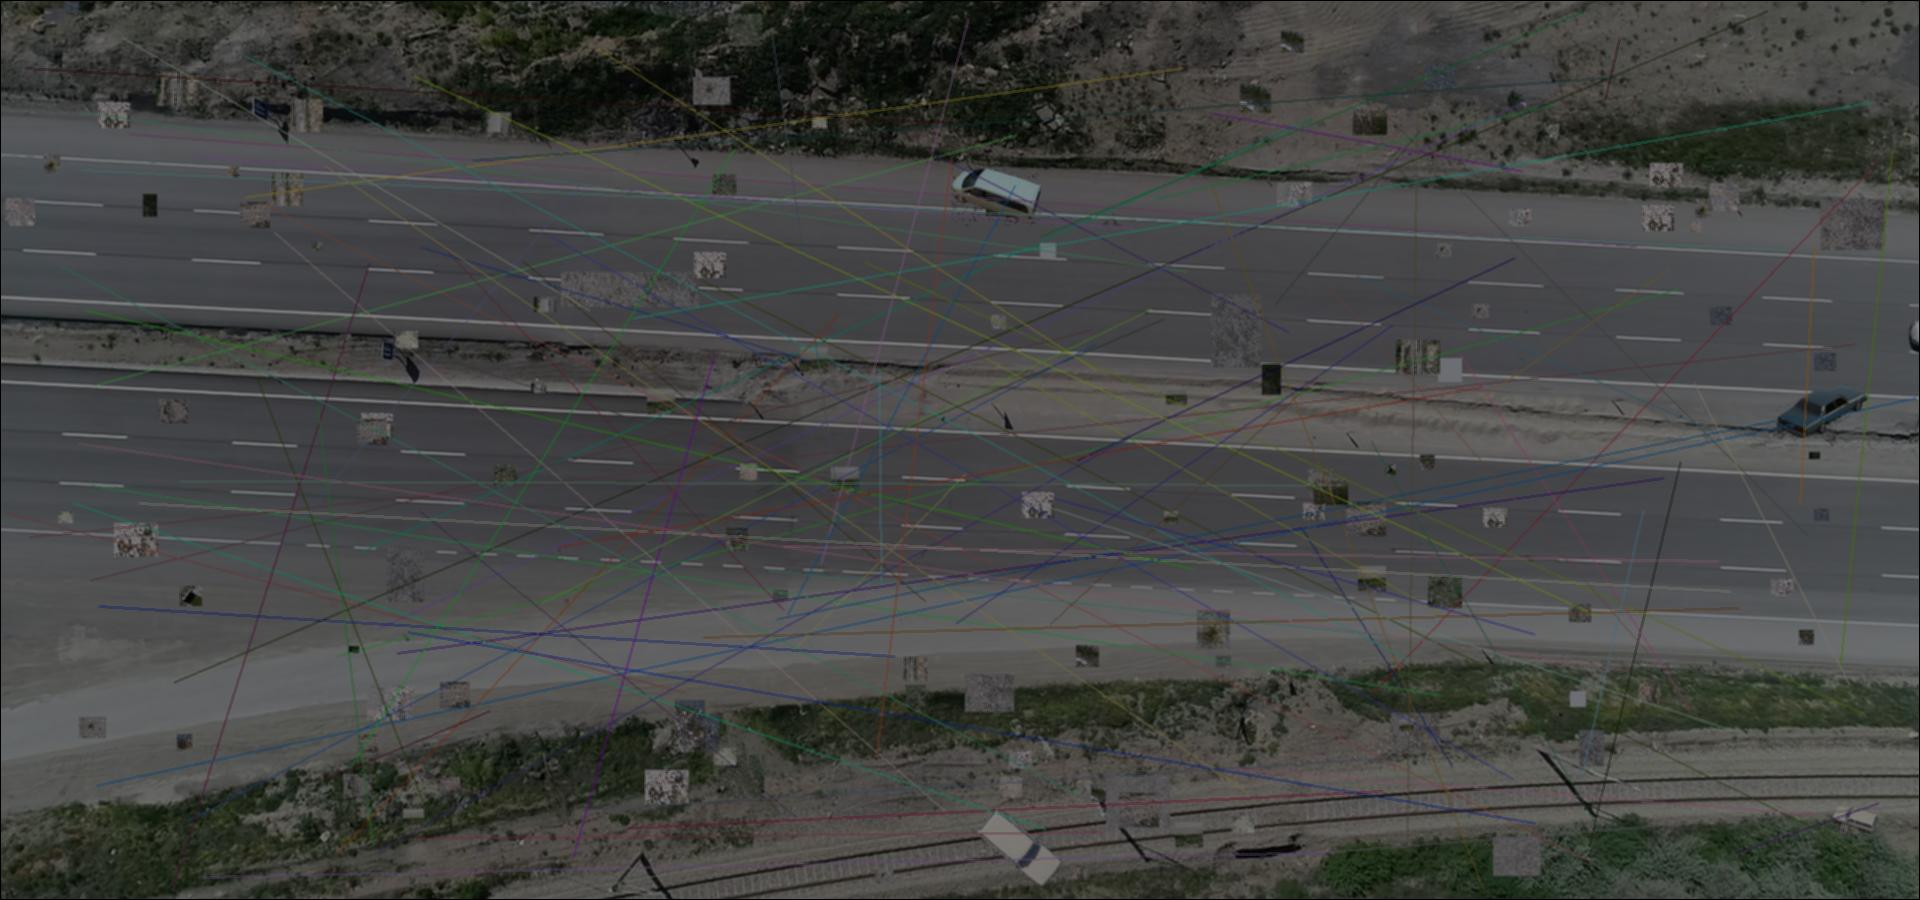arac: (973, 806, 1062, 887), (951, 168, 1041, 227), (1772, 384, 1869, 438), (1829, 804, 1878, 835)
